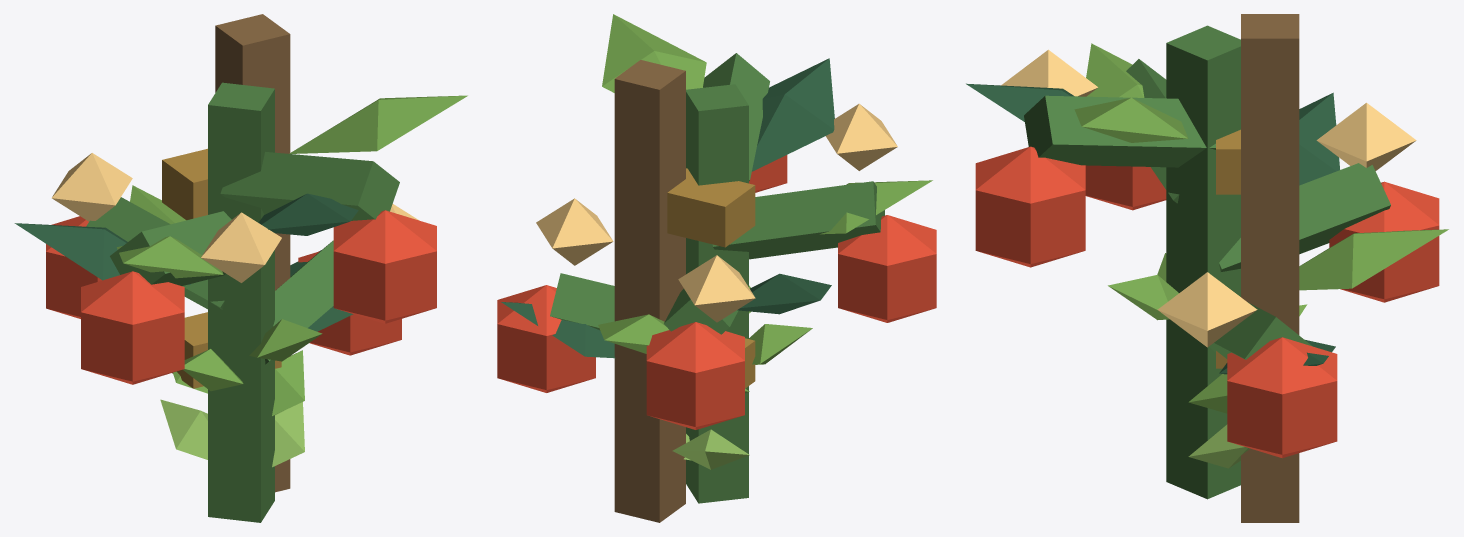
Rendered from tomato.glb.
3 renders of one model, left to right at view 1: azimuth 30°, elevation 25°; view 2: azimuth 150°, elevation 25°; view 3: azimuth 270°, elevation 25°, orthographic. The views are drawn at different scales.
Parts seen in each view (by area): view 1: decor_tomato_stem.002, Ripe_red_tomato.003, Ripe_red_tomato.002, decor_tomato_branch.003, Wooden_tomato_stake, decor_tomato_leaf.011, decor_tomato_branch, Golden_tomato_flower.002, Golden_tomato_flower.001, decor_tomato_leaf.008, decor_tomato_branch.002, Stake_tie.001 (+13 smaller); view 2: Wooden_tomato_stake, decor_tomato_stem.002, Ripe_red_tomato.001, Ripe_red_tomato.002, decor_tomato_branch.002, Ripe_red_tomato, decor_tomato_leaf.010, Stake_tie.001, decor_tomato_leaf.011, Golden_tomato_flower, Golden_tomato_flower.001, Golden_tomato_flower.002 (+10 smaller); view 3: decor_tomato_stem.002, Wooden_tomato_stake, Ripe_red_tomato.003, Ripe_red_tomato, decor_tomato_branch.003, Ripe_red_tomato.001, decor_tomato_branch.001, decor_tomato_leaf.007, Golden_tomato_flower, Golden_tomato_flower.001, decor_tomato_leaf.011, Ripe_red_tomato.002 (+10 smaller).
Part boxes in pixels (<box>): decor_tomato_stem.002: <box>208,82,274,522</box>; Ripe_red_tomato.003: <box>333,210,436,323</box>; Ripe_red_tomato.002: <box>81,271,184,384</box>; decor_tomato_branch.003: <box>220,152,399,220</box>; Wooden_tomato_stake: <box>215,14,290,492</box>; decor_tomato_leaf.011: <box>289,95,467,153</box>; decor_tomato_branch: <box>265,240,333,364</box>; Golden_tomato_flower.002: <box>201,212,281,282</box>; Golden_tomato_flower.001: <box>51,153,132,221</box>; decor_tomato_leaf.008: <box>14,223,190,284</box>; decor_tomato_branch.002: <box>110,211,231,285</box>; Stake_tie.001: <box>162,148,207,220</box>; Wooden_tomato_stake: <box>614,60,685,522</box>; decor_tomato_stem.002: <box>686,84,748,503</box>; Ripe_red_tomato.001: <box>646,322,744,429</box>; Ripe_red_tomato.002: <box>838,215,936,322</box>; decor_tomato_branch.002: <box>712,181,884,259</box>; Ripe_red_tomato: <box>497,285,595,392</box>; decor_tomato_leaf.010: <box>752,58,834,171</box>; Stake_tie.001: <box>667,168,755,247</box>; decor_tomato_leaf.011: <box>602,14,706,92</box>; Golden_tomato_flower: <box>536,198,613,265</box>; Golden_tomato_flower.001: <box>678,255,755,322</box>; Golden_tomato_flower.002: <box>826,103,897,170</box>; decor_tomato_stem.002: <box>1166,25,1240,499</box>; Wooden_tomato_stake: <box>1241,14,1299,522</box>; Ripe_red_tomato.003: <box>975,146,1085,267</box>; Ripe_red_tomato: <box>1227,337,1337,458</box>; decor_tomato_branch.003: <box>1024,95,1215,167</box>; Ripe_red_tomato.001: <box>1329,181,1439,302</box>; decor_tomato_branch.001: <box>1219,163,1390,271</box>; decor_tomato_leaf.007: <box>1299,229,1448,290</box>; Golden_tomato_flower: <box>1157,272,1257,347</box>; Golden_tomato_flower.001: <box>1316,102,1416,170</box>; decor_tomato_leaf.011: <box>1074,97,1188,142</box>; Ripe_red_tomato.002: <box>1085,165,1166,210</box>.
Size of the model in its own units: 0.5761 by 0.64 by 0.5798.
